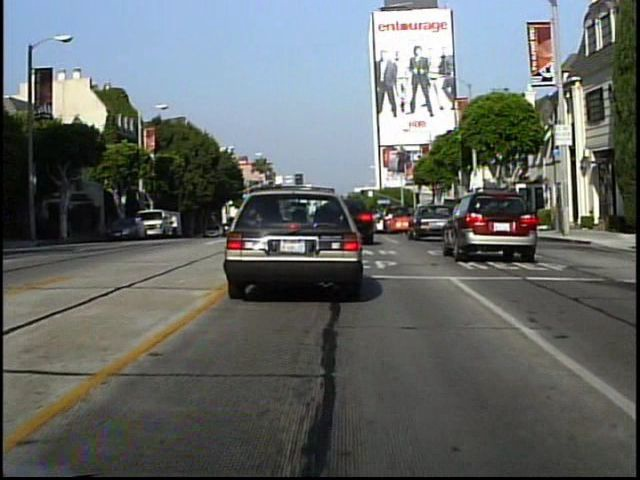person: (170, 210, 181, 241)
